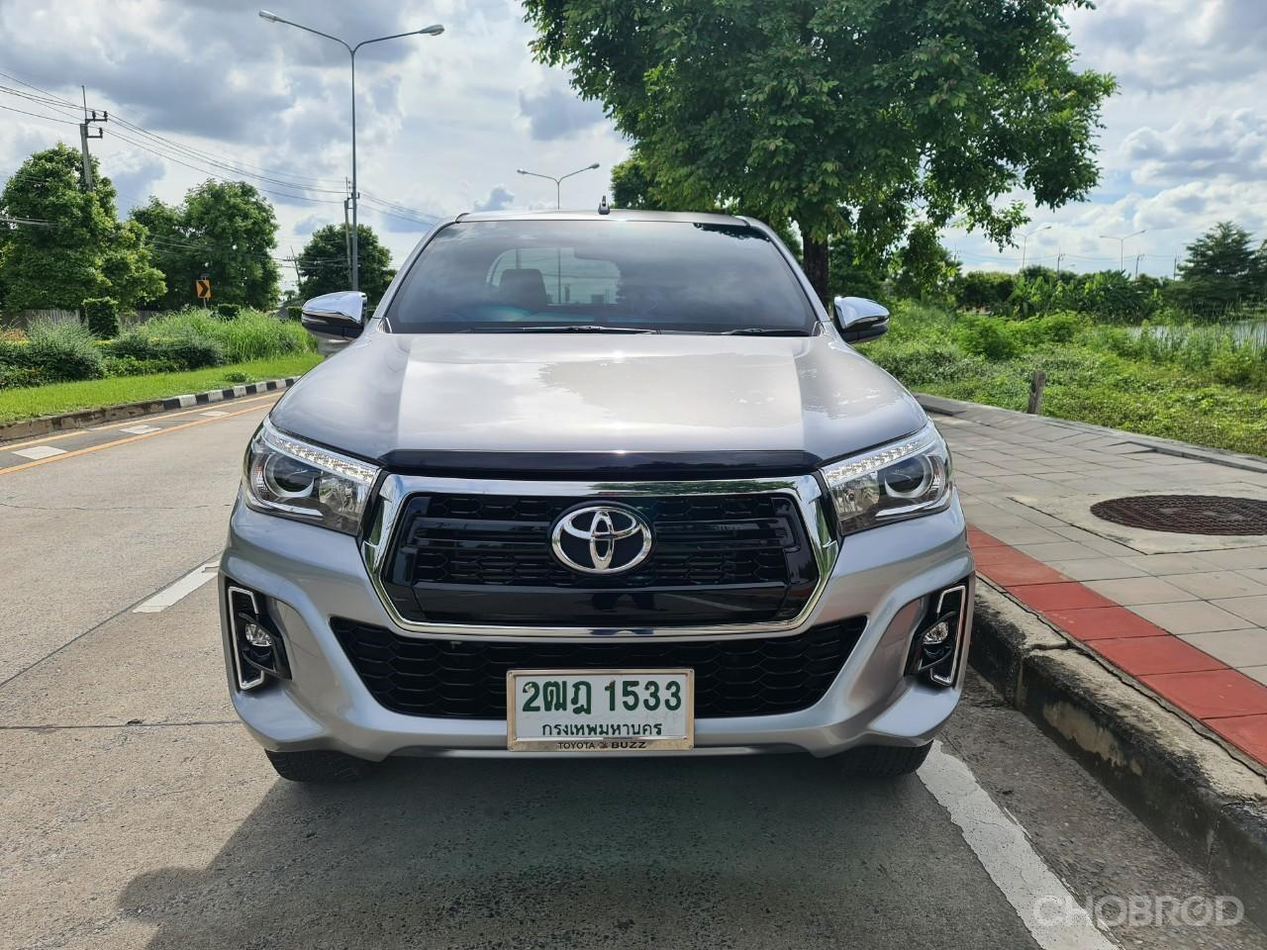license-plate: (503, 664, 698, 757)
